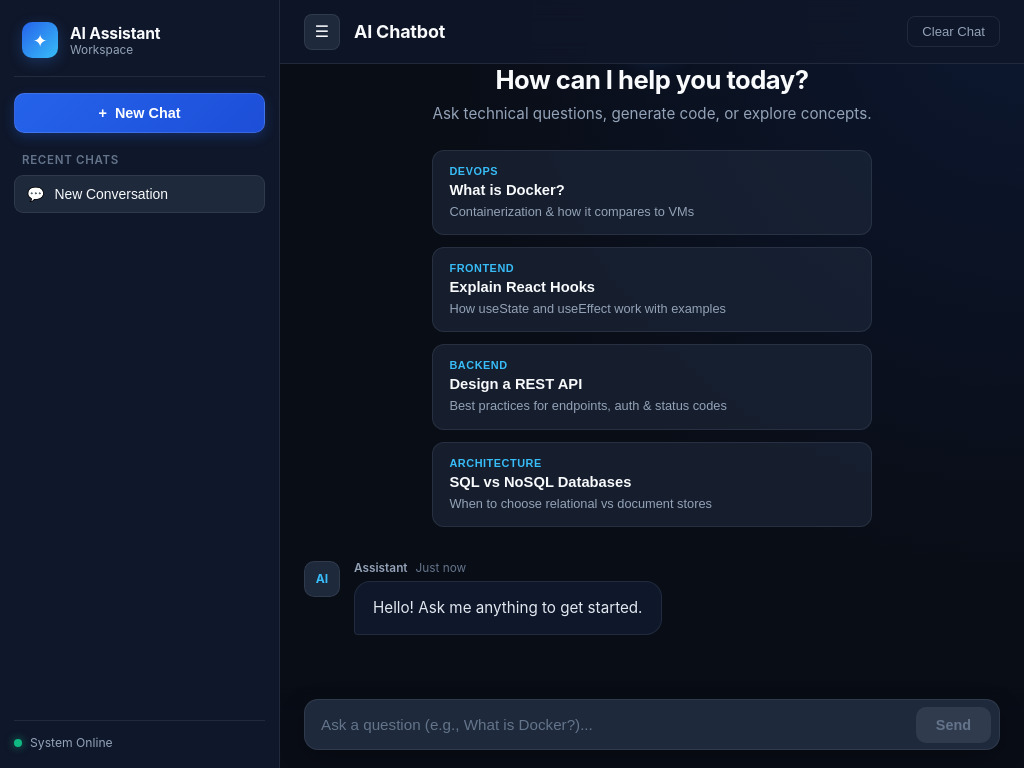
Test case: AI Chatbot & askLLM › sending a message displays user question and AI answer
This screenshot has width=1024, height=768.
(page scrolled)
Type "What is Docker?" into the field with placeholder "Ask a question (e.g., What is Docker?)...".
click(613, 724); type("What is Docker?")  # box [321, 706, 906, 743]
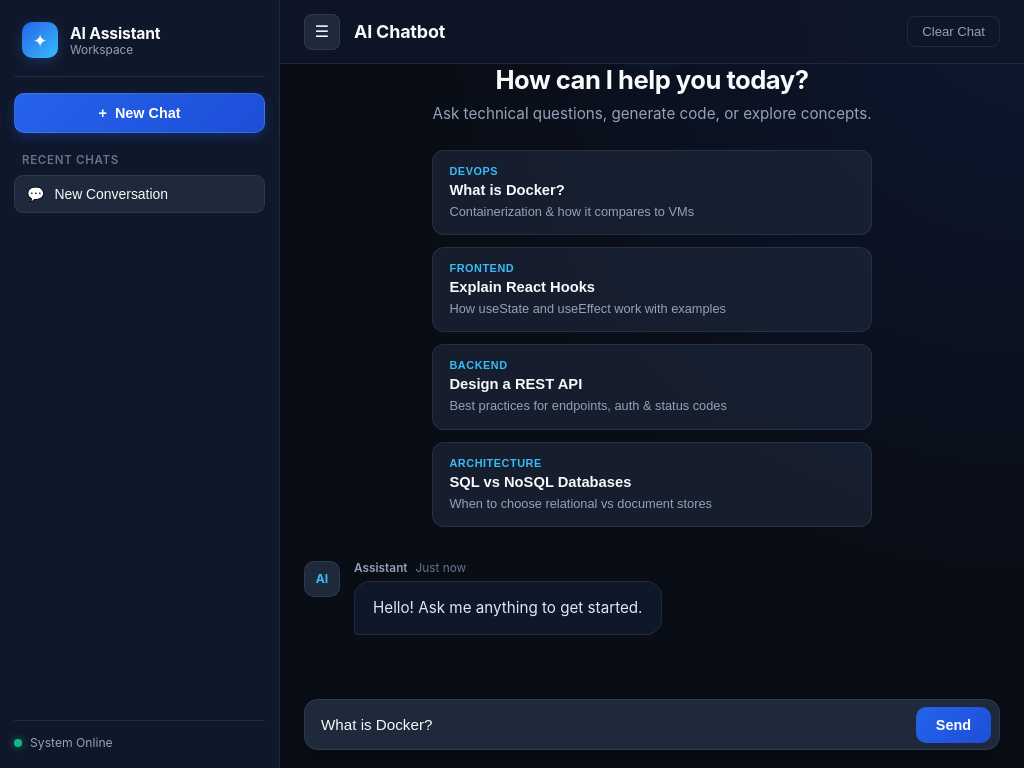
Click the button "Send".
click(953, 724)  # box [916, 706, 991, 742]
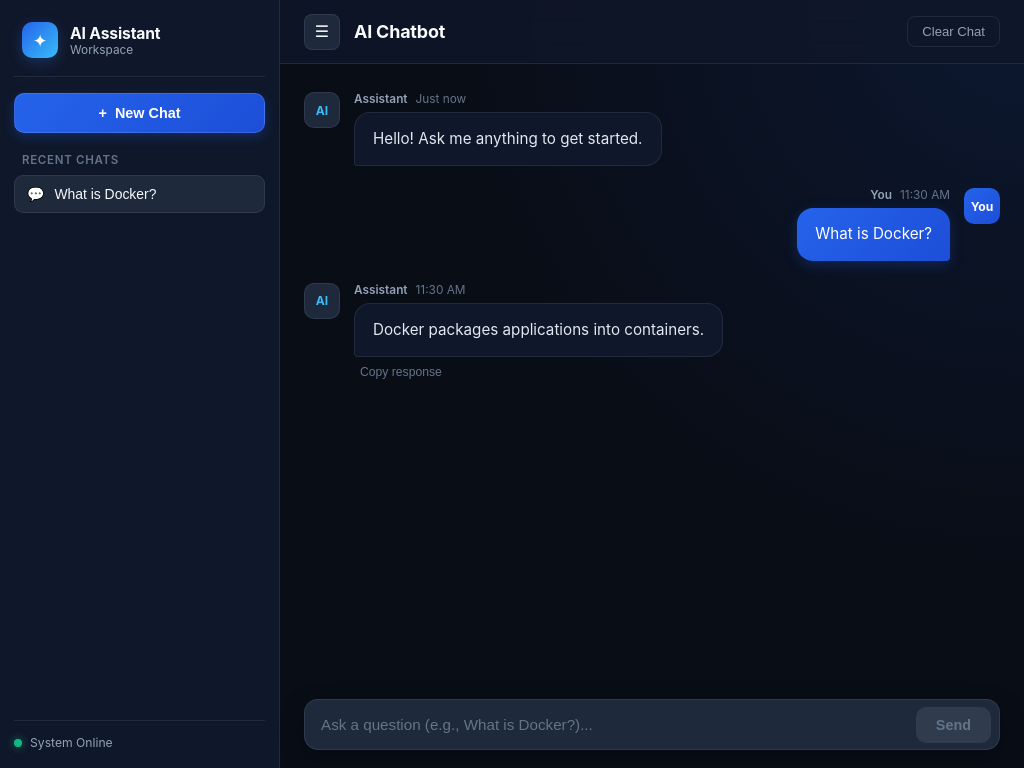
expect the text "Docker packages applications into containers." is shown: met, box [373, 318, 704, 342]
